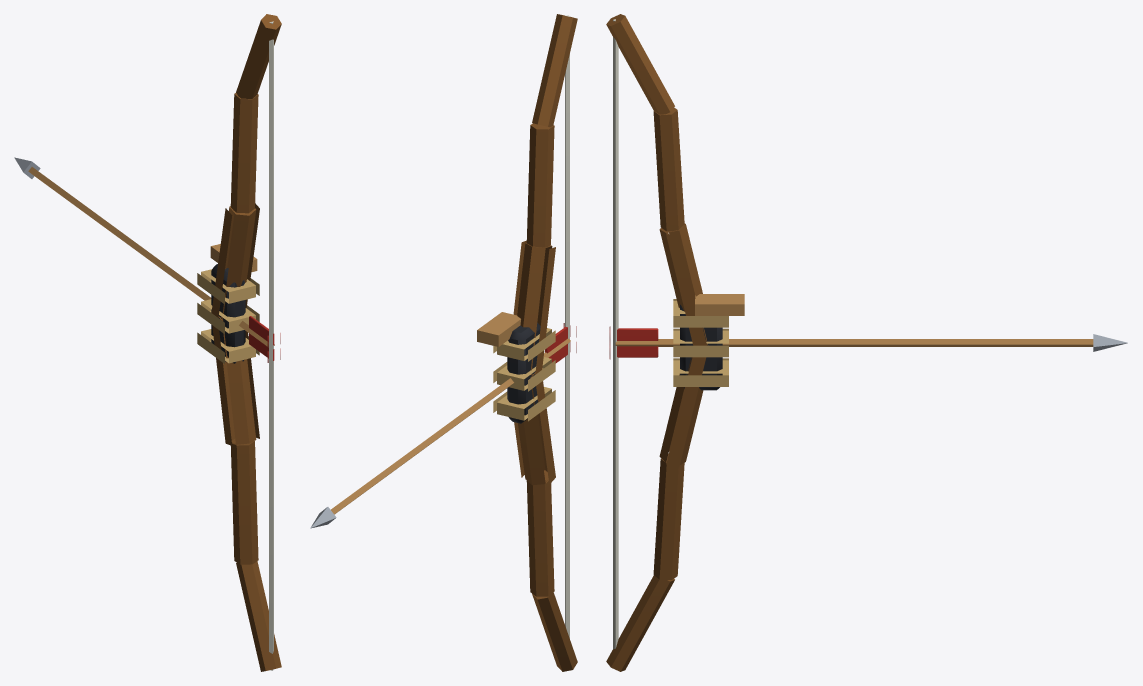
The model's file is item_bow.glb.
3 renders of one model, left to right at view 1: azimuth 30°, elevation 25°; view 2: azimuth 150°, elevation 25°; view 3: azimuth 270°, elevation 25°, orthographic.
Parts seen in each view (by area): view 1: item_bow, item_bow_detail; view 2: item_bow, item_bow_detail; view 3: item_bow, item_bow_detail.
Boxes of the visible parts, x1=… form: item_bow: x1=14, y1=14, x2=281, y2=671; item_bow_detail: x1=197, y1=244, x2=259, y2=363; item_bow: x1=310, y1=14, x2=577, y2=671; item_bow_detail: x1=477, y1=312, x2=555, y2=421; item_bow: x1=606, y1=14, x2=1127, y2=671; item_bow_detail: x1=673, y1=294, x2=744, y2=386.
Size of the model in its own units: 0.0695 by 1.01 by 0.7334.
